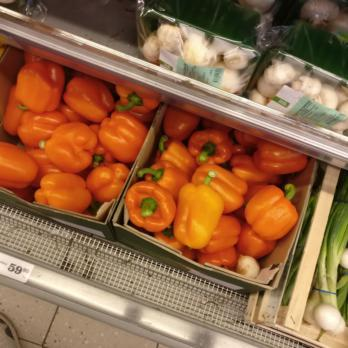Capsicum: (155, 118, 302, 249), (2, 70, 141, 208)
